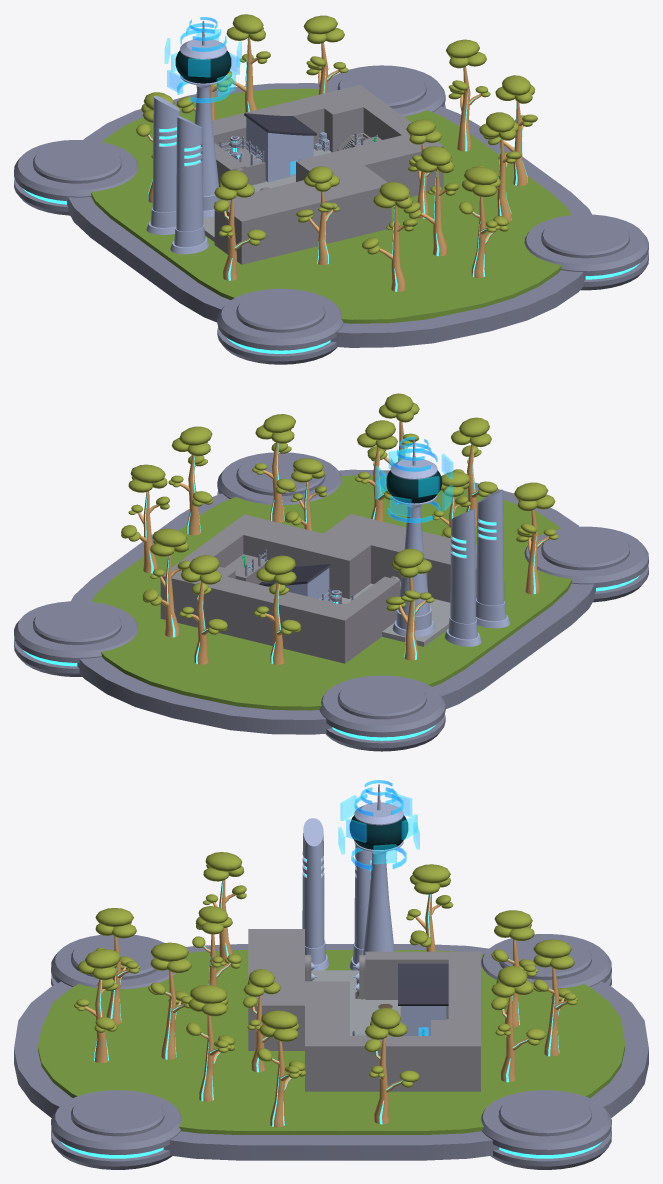
The model's file is Blocking_Zone2_Passe.fbx.
The picture shows the model from 3 angles, top to bottom: view 1: azimuth 30°, elevation 25°; view 2: azimuth 150°, elevation 25°; view 3: azimuth 270°, elevation 25°; orthographic projection. The views are drawn at different scales.
Visible parts, largest first — view 1: Ilot, Terrain, Sol.089, Batiment5.011, Sol.095, Batiment4.017, Batiment4.018, Cabanon.003, Sol.093, ArbreV.231, ArbreV.225, ArbreV.232 (+15 smaller); view 2: Ilot, Terrain, Sol.093, Batiment5.011, Sol.095, Sol.089, Batiment4.017, Batiment4.018, ArbreV.233, ArbreV.229, ArbreV.230, ArbreV.228 (+14 smaller); view 3: Terrain, Ilot, Batiment5.011, Sol.096, Sol.095, Sol.089, Cabanon.003, Batiment4.017, Sol.093, ArbreV.227, ArbreV.228, ArbreV.226 (+14 smaller).
Part boxes in pixels (x1,y1,x2,y2): Ilot: (14,65,648,364); Terrain: (90,88,571,323); Sol.089: (214,165,391,264); Batiment5.011: (165,17,241,217); Sol.095: (296,133,443,197); Batiment4.017: (170,116,208,254); Batiment4.018: (146,95,180,234); Cabanon.003: (244,113,316,182); Sol.093: (212,89,354,151); ArbreV.231: (459,166,508,277); ArbreV.225: (213,170,266,280); ArbreV.232: (362,182,417,291); Ilot: (14,452,648,751); Terrain: (91,475,571,710); Sol.093: (181,575,360,663); Batiment5.011: (375,436,452,637); Sol.095: (223,514,370,598); Sol.089: (324,514,476,602); Batiment4.017: (476,489,510,628); Batiment4.018: (444,508,481,646); ArbreV.233: (179,555,227,664); ArbreV.229: (253,555,300,664); ArbreV.230: (386,548,434,660); ArbreV.228: (142,528,190,637); Terrain: (38,950,624,1134); Ilot: (14,934,648,1169); Batiment5.011: (338,780,419,984); Sol.096: (350,1036,480,1091); Sol.095: (305,981,349,1091); Sol.089: (248,929,304,1050); Cabanon.003: (398,963,448,1035); Batiment4.017: (302,818,329,970); Sol.093: (448,951,480,1035); ArbreV.227: (364,1008,419,1124); ArbreV.228: (491,966,546,1082); ArbreV.226: (257,1010,305,1127).
Bounding box in the file's own units: 68.04 × 34.79 × 85.92.
